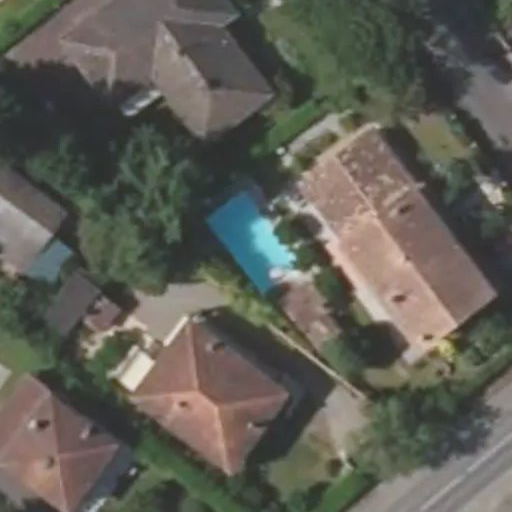pool: (206, 188, 301, 298)
